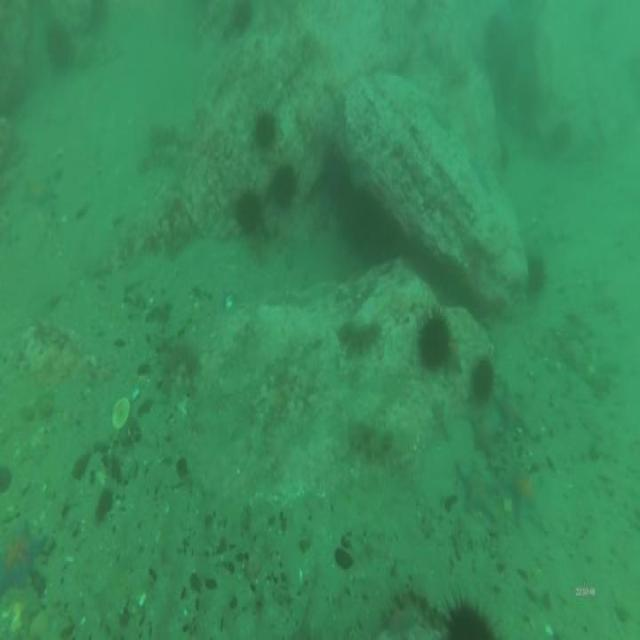echinus: (440, 586, 502, 640), (412, 303, 453, 370), (40, 17, 76, 79), (320, 152, 356, 208), (231, 185, 265, 242), (466, 352, 499, 403), (250, 106, 282, 156), (271, 161, 299, 212), (524, 251, 548, 294), (230, 0, 255, 40), (88, 0, 108, 35)
holothurian: (344, 416, 397, 466), (333, 313, 385, 363)
starfish: (452, 454, 508, 526), (500, 457, 550, 537), (0, 515, 47, 599), (492, 376, 529, 441), (466, 409, 505, 463)
